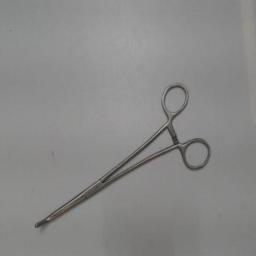Lahey Forceps: (30, 74, 212, 232)
